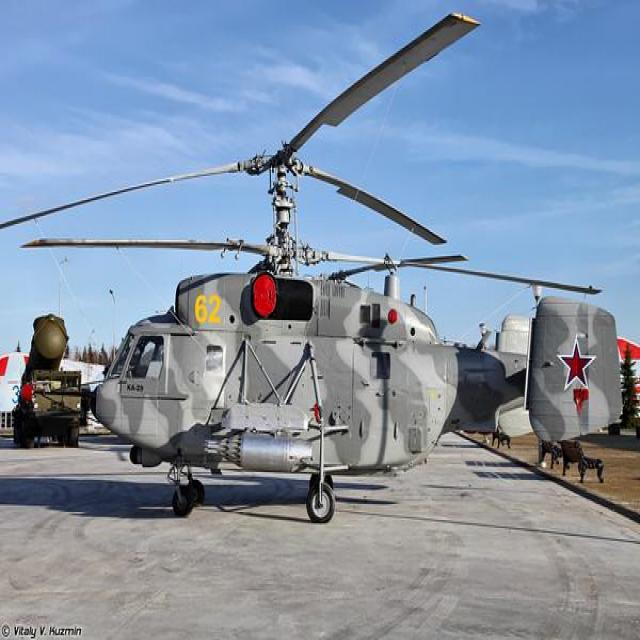MIL_HELO: (13, 18, 632, 552)
